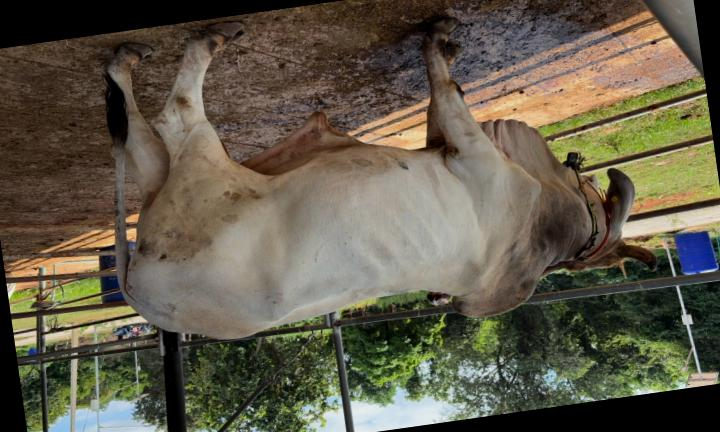Brahman: (102, 19, 656, 338)
